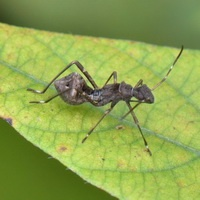insect: (27, 46, 182, 155)
